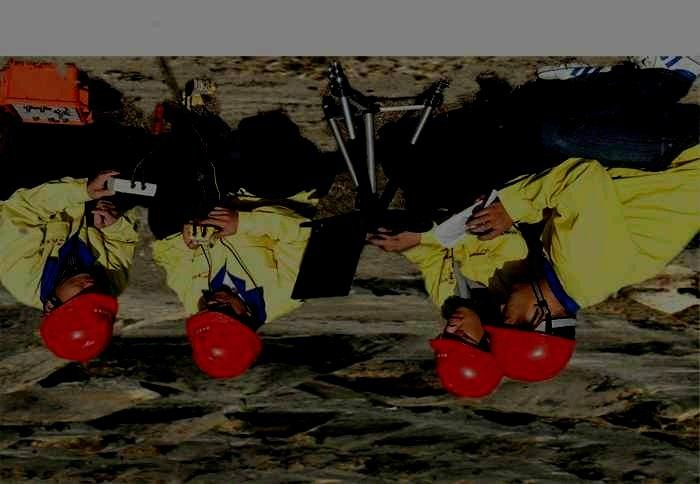helmet: (479, 280, 578, 386), (36, 272, 120, 363), (427, 307, 505, 399), (184, 291, 262, 381)
